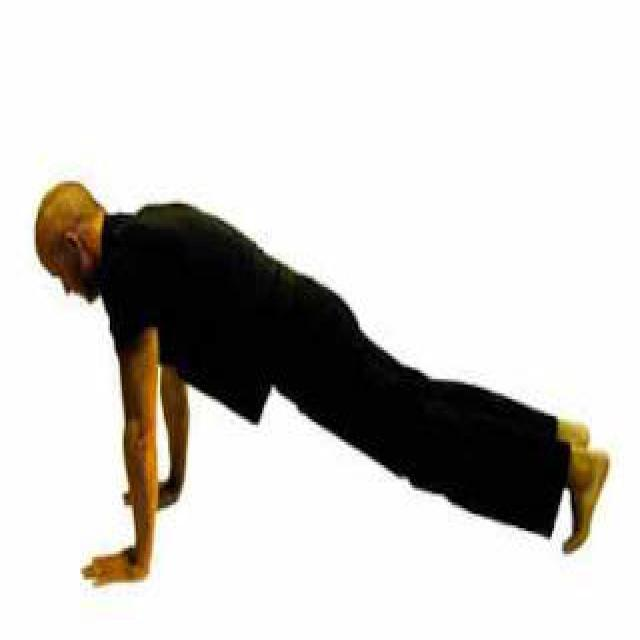yoga-pose plank: (34, 179, 606, 586)
